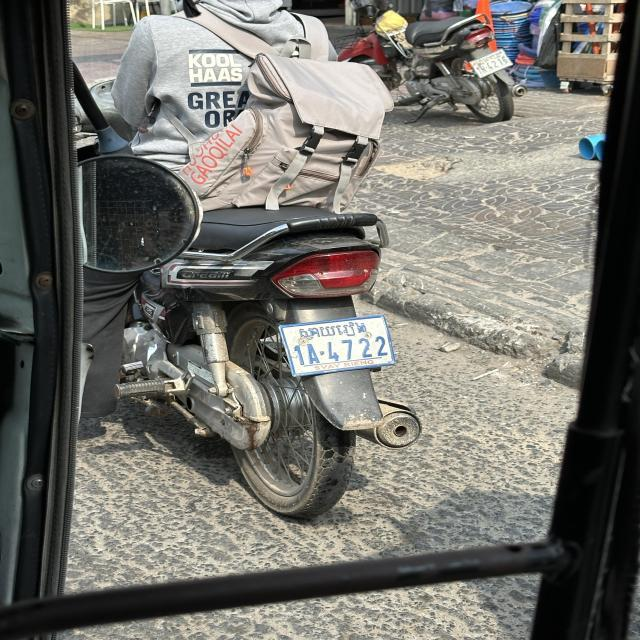Svay_Rieng: (298, 320, 366, 340)
